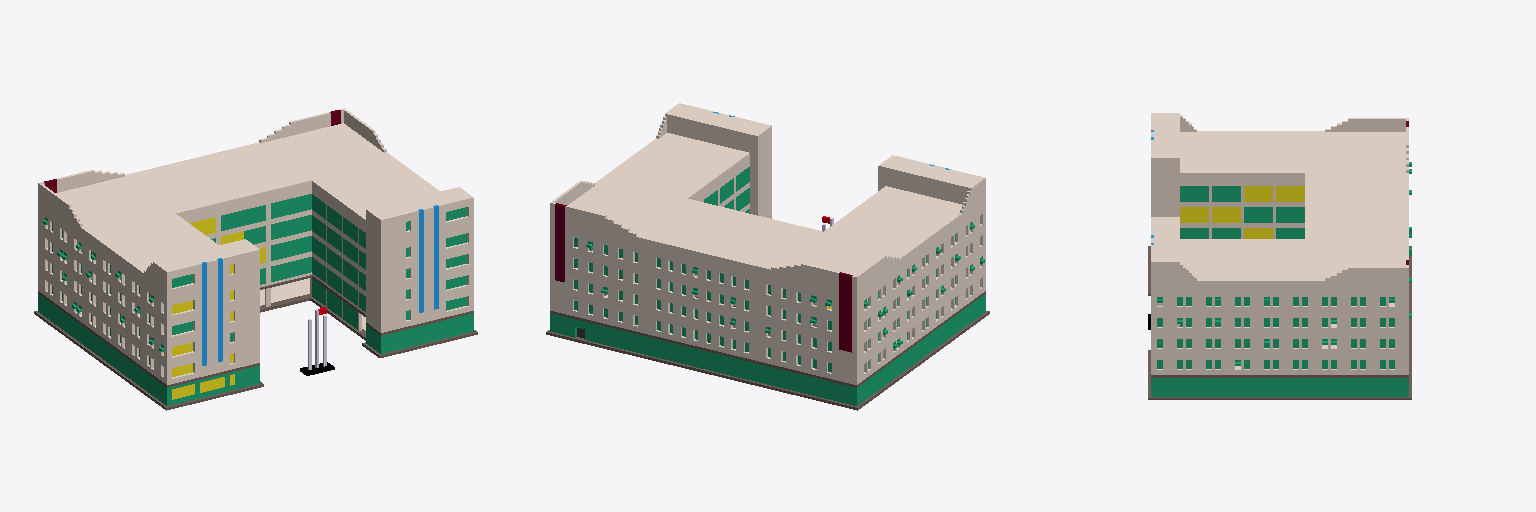
3 renders of one model, left to right at view 1: azimuth 30°, elevation 25°; view 2: azimuth 150°, elevation 25°; view 3: azimuth 270°, elevation 25°, orthographic.
Size of the model in its own units: 124 by 52 by 91.
Materials: 1 (1 with a texture image).